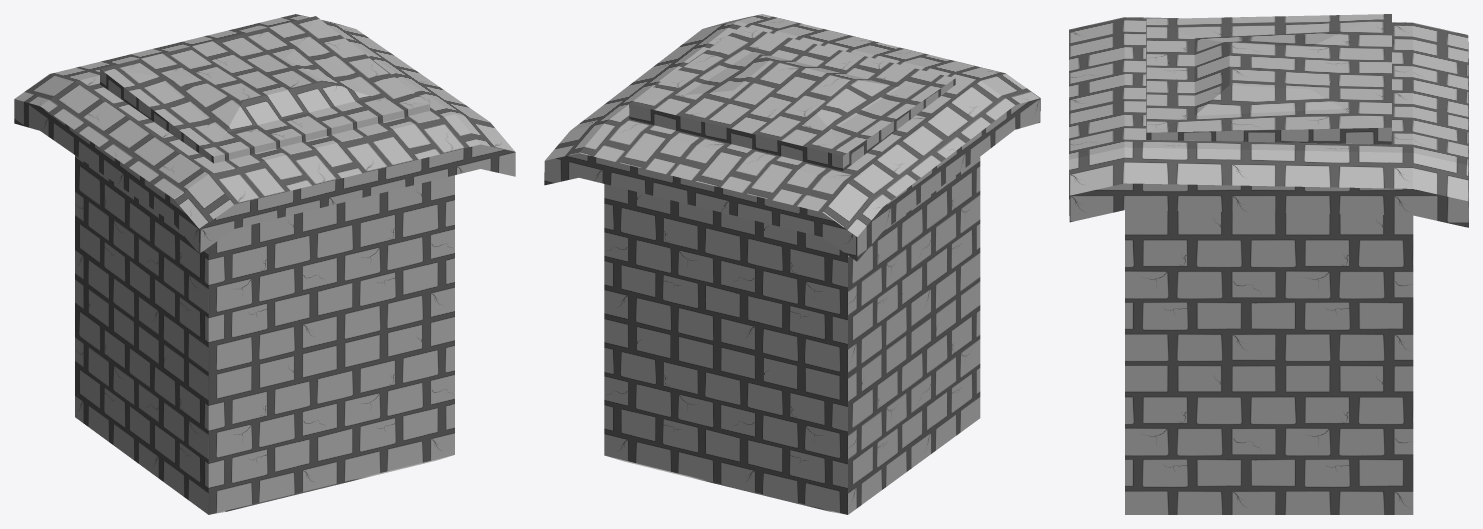
File: EndCap_Wall.fbx
The picture shows the model from 3 angles, left to right: view 1: azimuth 30°, elevation 25°; view 2: azimuth 150°, elevation 25°; view 3: azimuth 270°, elevation 25°; orthographic projection. The views are drawn at different scales.
Visible parts, largest first — view 1: CornerPiece; view 2: CornerPiece; view 3: CornerPiece.
Boxes of the visible parts, bbox=[...] form: CornerPiece: bbox=[14, 14, 515, 514]; CornerPiece: bbox=[544, 14, 1040, 514]; CornerPiece: bbox=[1069, 14, 1468, 514].
Bounding box in the file's own units: 0.6534 × 0.7098 × 0.6638.
